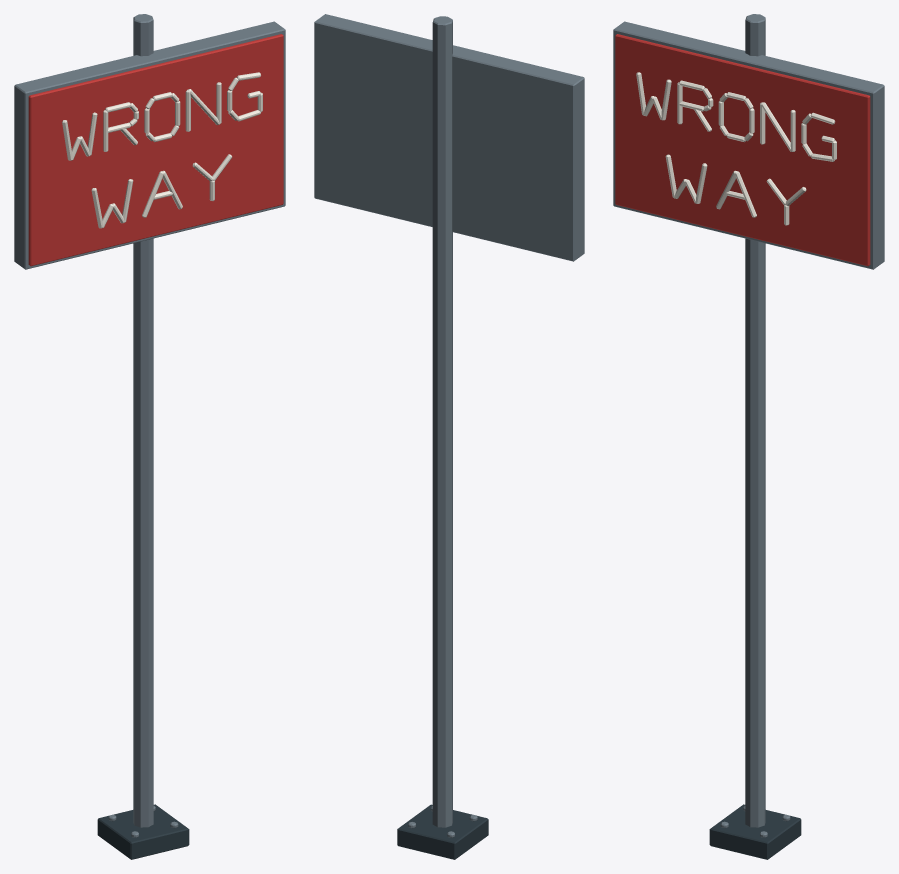
The model's file is b02_wrong_way.glb.
The picture shows the model from 3 angles, left to right: view 1: azimuth 30°, elevation 25°; view 2: azimuth 150°, elevation 25°; view 3: azimuth 330°, elevation 25°; orthographic projection.
Parts seen in each view (by area): view 1: b02_wrong_way; view 2: b02_wrong_way; view 3: b02_wrong_way.
Part boxes in pixels (x1,y1,x2,y2): b02_wrong_way: (14,14,285,859); b02_wrong_way: (314,14,584,859); b02_wrong_way: (613,14,884,859).
Bounding box in the file's own units: 0.8 × 2.41 × 0.1979.
